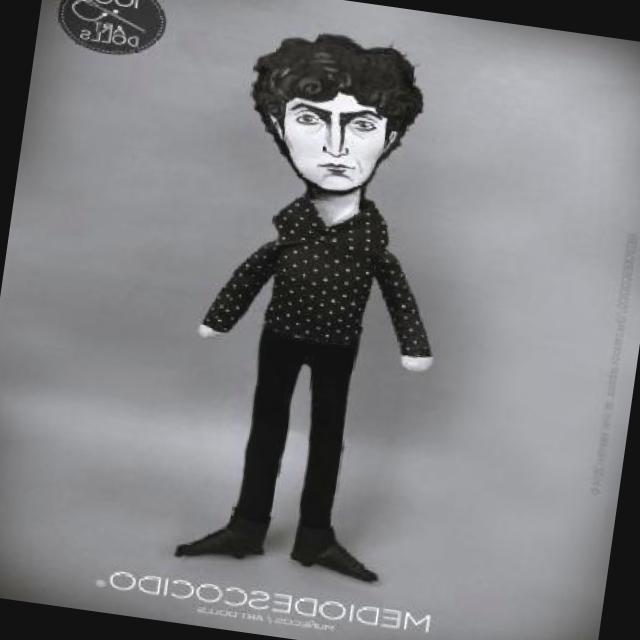Person: (150, 4, 492, 602)
